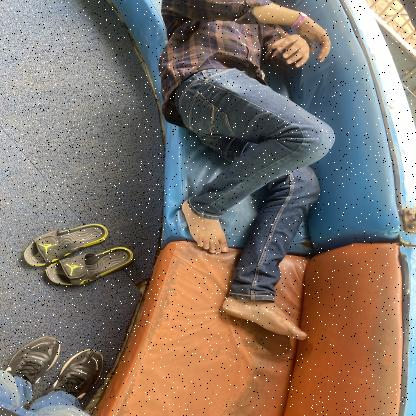hand: (234, 0, 357, 81)
leg: (192, 258, 322, 352), (152, 154, 240, 255)
